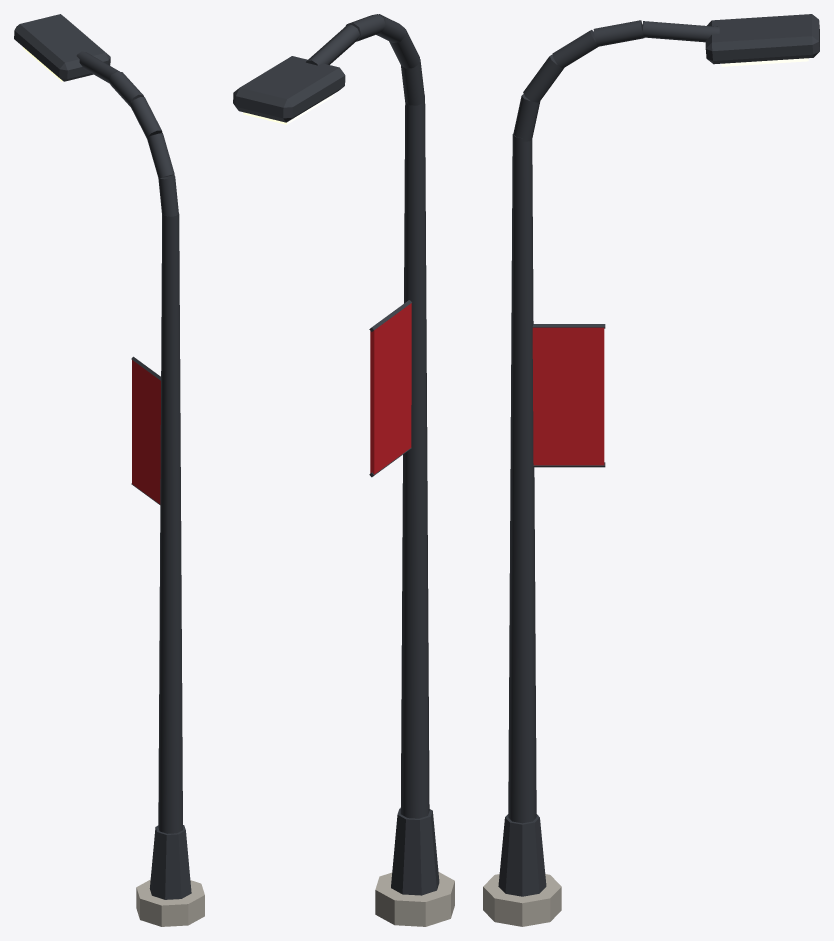
File: streetlight.glb
The picture shows the model from 3 angles, left to right: view 1: azimuth 30°, elevation 25°; view 2: azimuth 150°, elevation 25°; view 3: azimuth 270°, elevation 25°; orthographic projection. The views are drawn at different scales.
Visible parts, largest first — view 1: streetlight; view 2: streetlight; view 3: streetlight.
Part boxes in pixels (x1,y1,x2,y2): streetlight: (14, 14, 204, 926); streetlight: (233, 14, 454, 926); streetlight: (483, 14, 819, 926).
Bounding box in the file's own units: 0.36 × 4.49 × 1.54.
